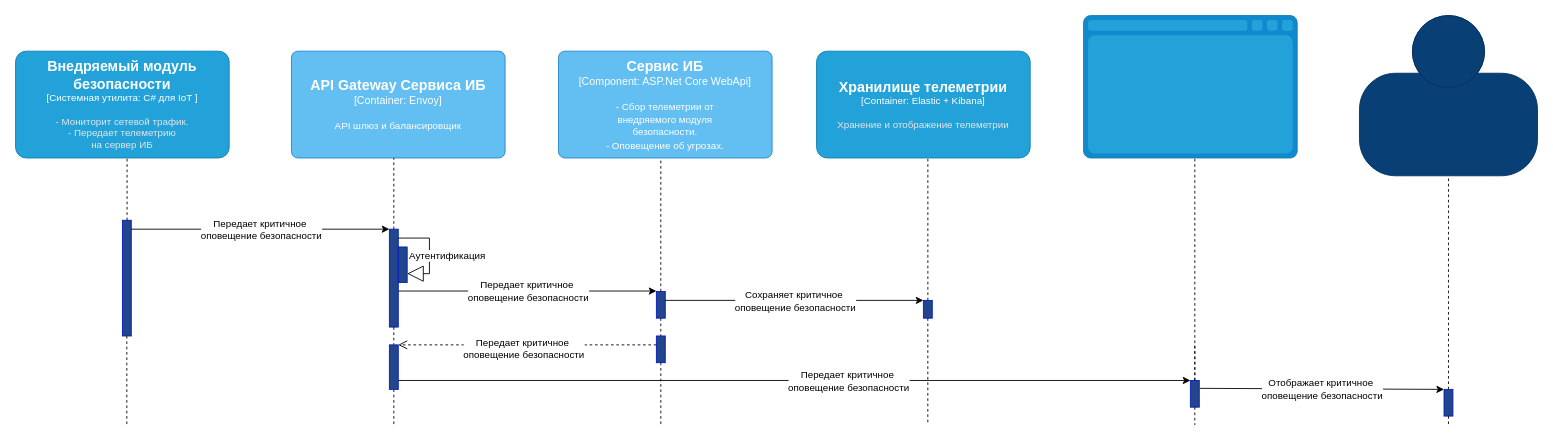
Image size: 1553x441. Some labels were removed from this diagram. Each missing label, with the centre of its shape:
"Инженер ИБ [Person] Реагирует на предупреждения об угрозах." belongs at pixel 1448 95.
"Мобильное приложение Системы ИБ [IOS, Android получает уведомления ИБ]" belongs at pixel 1190 86.
